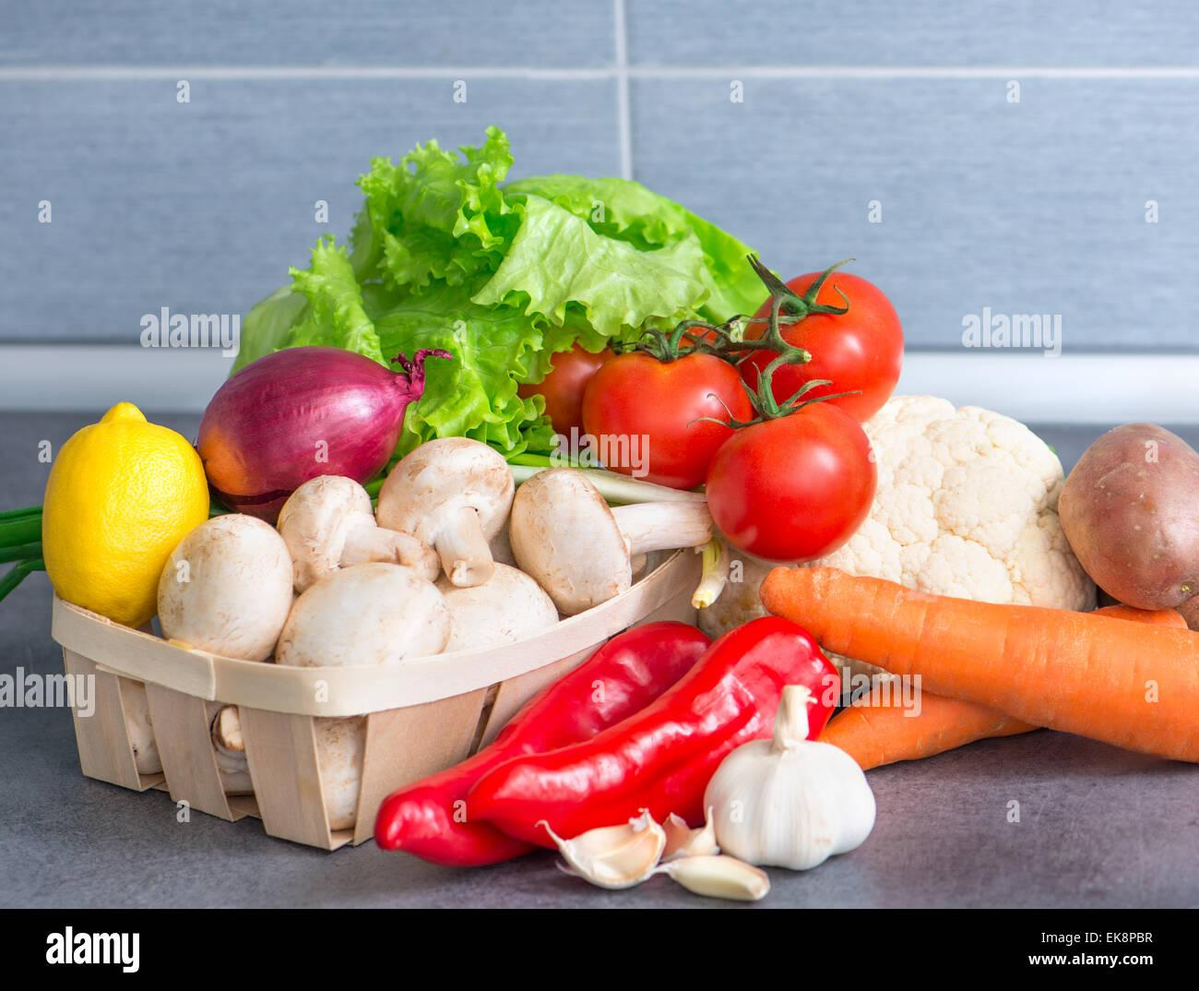carrot: (764, 568, 1199, 769), (820, 694, 1036, 773)
lemon: (15, 395, 220, 606)
mushroom: (231, 484, 595, 659), (1068, 375, 1069, 381)
onion: (221, 369, 468, 483)
tomato: (581, 257, 949, 577)
